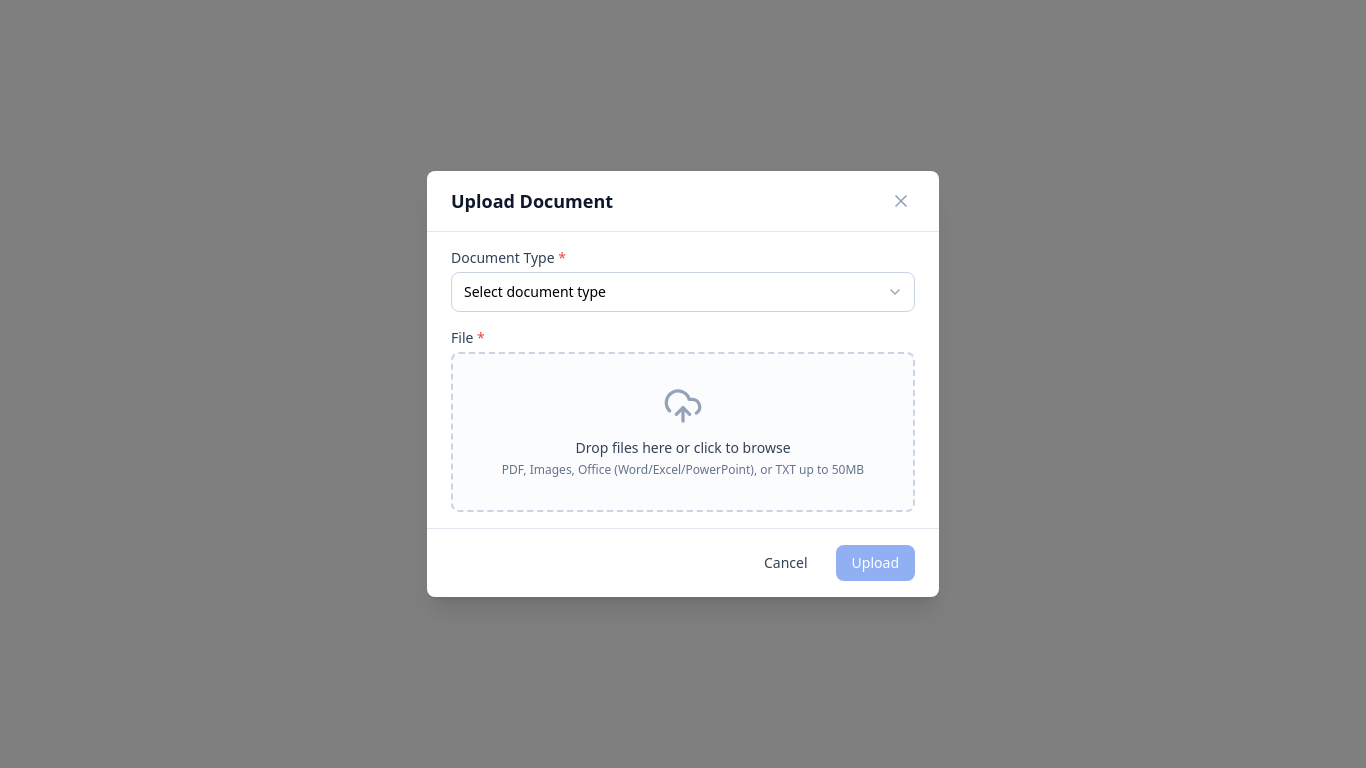
Test case: VendorDocumentUpload — supersede hint › shows hint when type is insurance and a valid insurance cert already exists
The image size is (1366, 768).
Select "Insurance Certificate" in the dropdown at (683, 292), box [451,272,915,312]
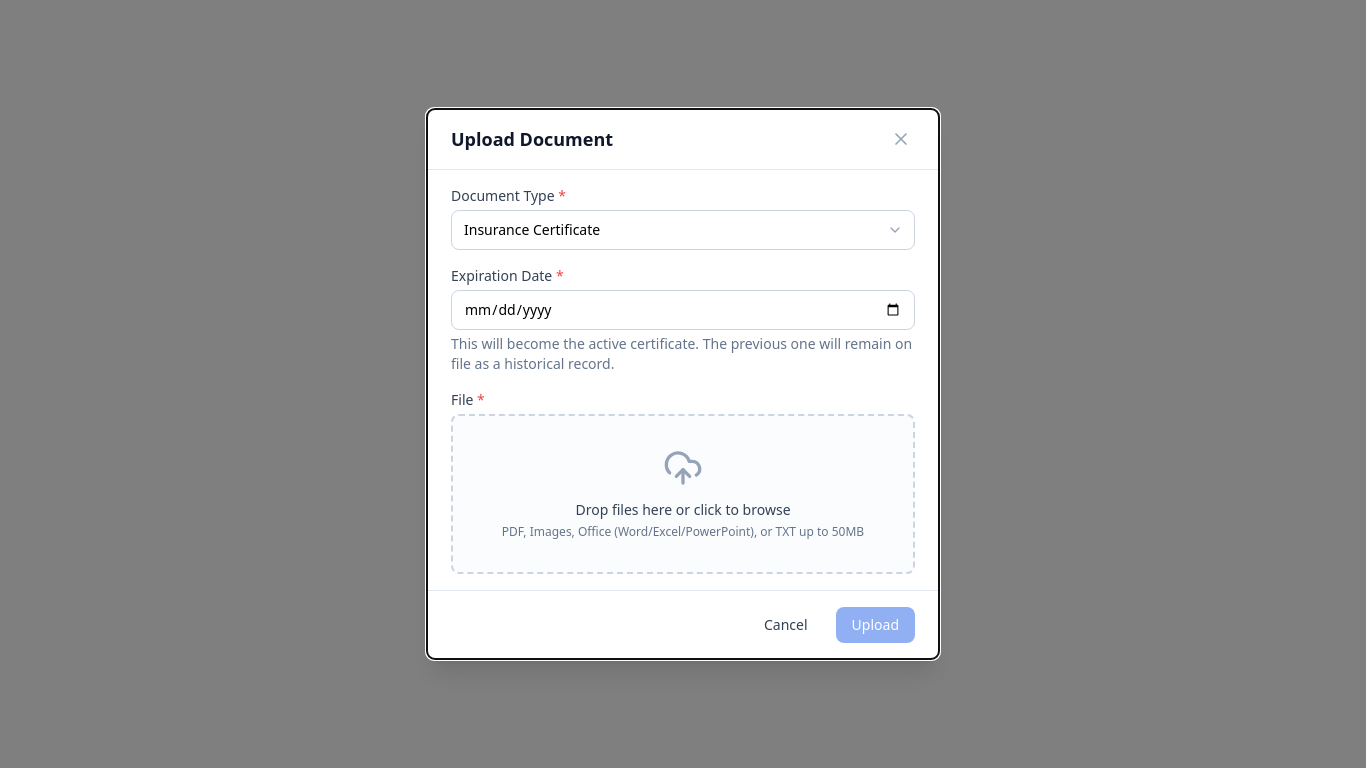
Now the text "This will become the active certificate" is shown, box [451,334,912,373]
